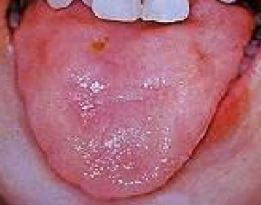hongshe: (15, 1, 254, 196)
